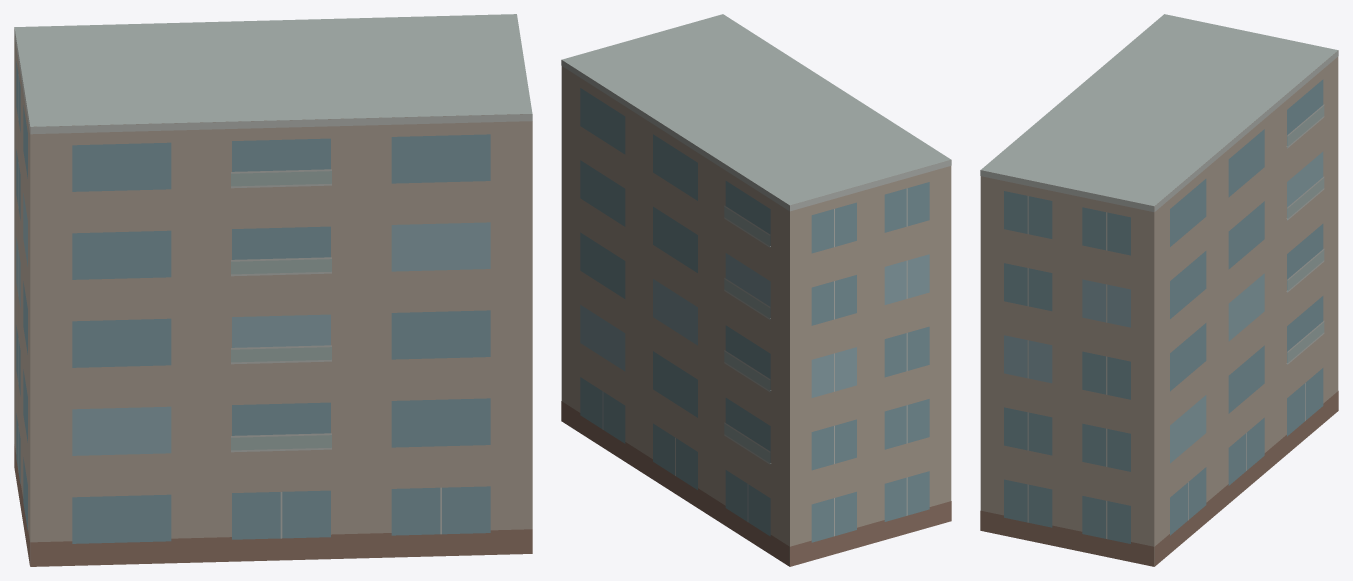
Rendered from survey-upis-32852747.glb.
3 views of the same model, side by side, from view 1: azimuth 30°, elevation 25°; view 2: azimuth 150°, elevation 25°; view 3: azimuth 270°, elevation 25° (orthographic). The views are drawn at different scales.
Visible parts, largest first — view 1: survey-upis-32852747.tmp; view 2: survey-upis-32852747.tmp; view 3: survey-upis-32852747.tmp.
Boxes of the visible parts, box(x1,y1,x2,y2) form: survey-upis-32852747.tmp: box(14, 14, 532, 566); survey-upis-32852747.tmp: box(561, 14, 951, 566); survey-upis-32852747.tmp: box(980, 14, 1338, 566).
Size of the model in its own units: 16.7 by 14.6 by 13.14.
